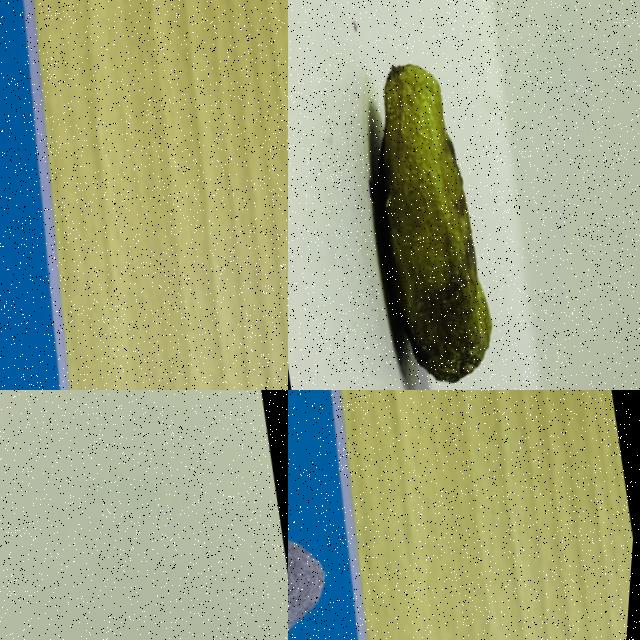Agglomerated_cocoabeans: (288, 397, 413, 639)
Flat_cocoabeans: (289, 20, 555, 389)
